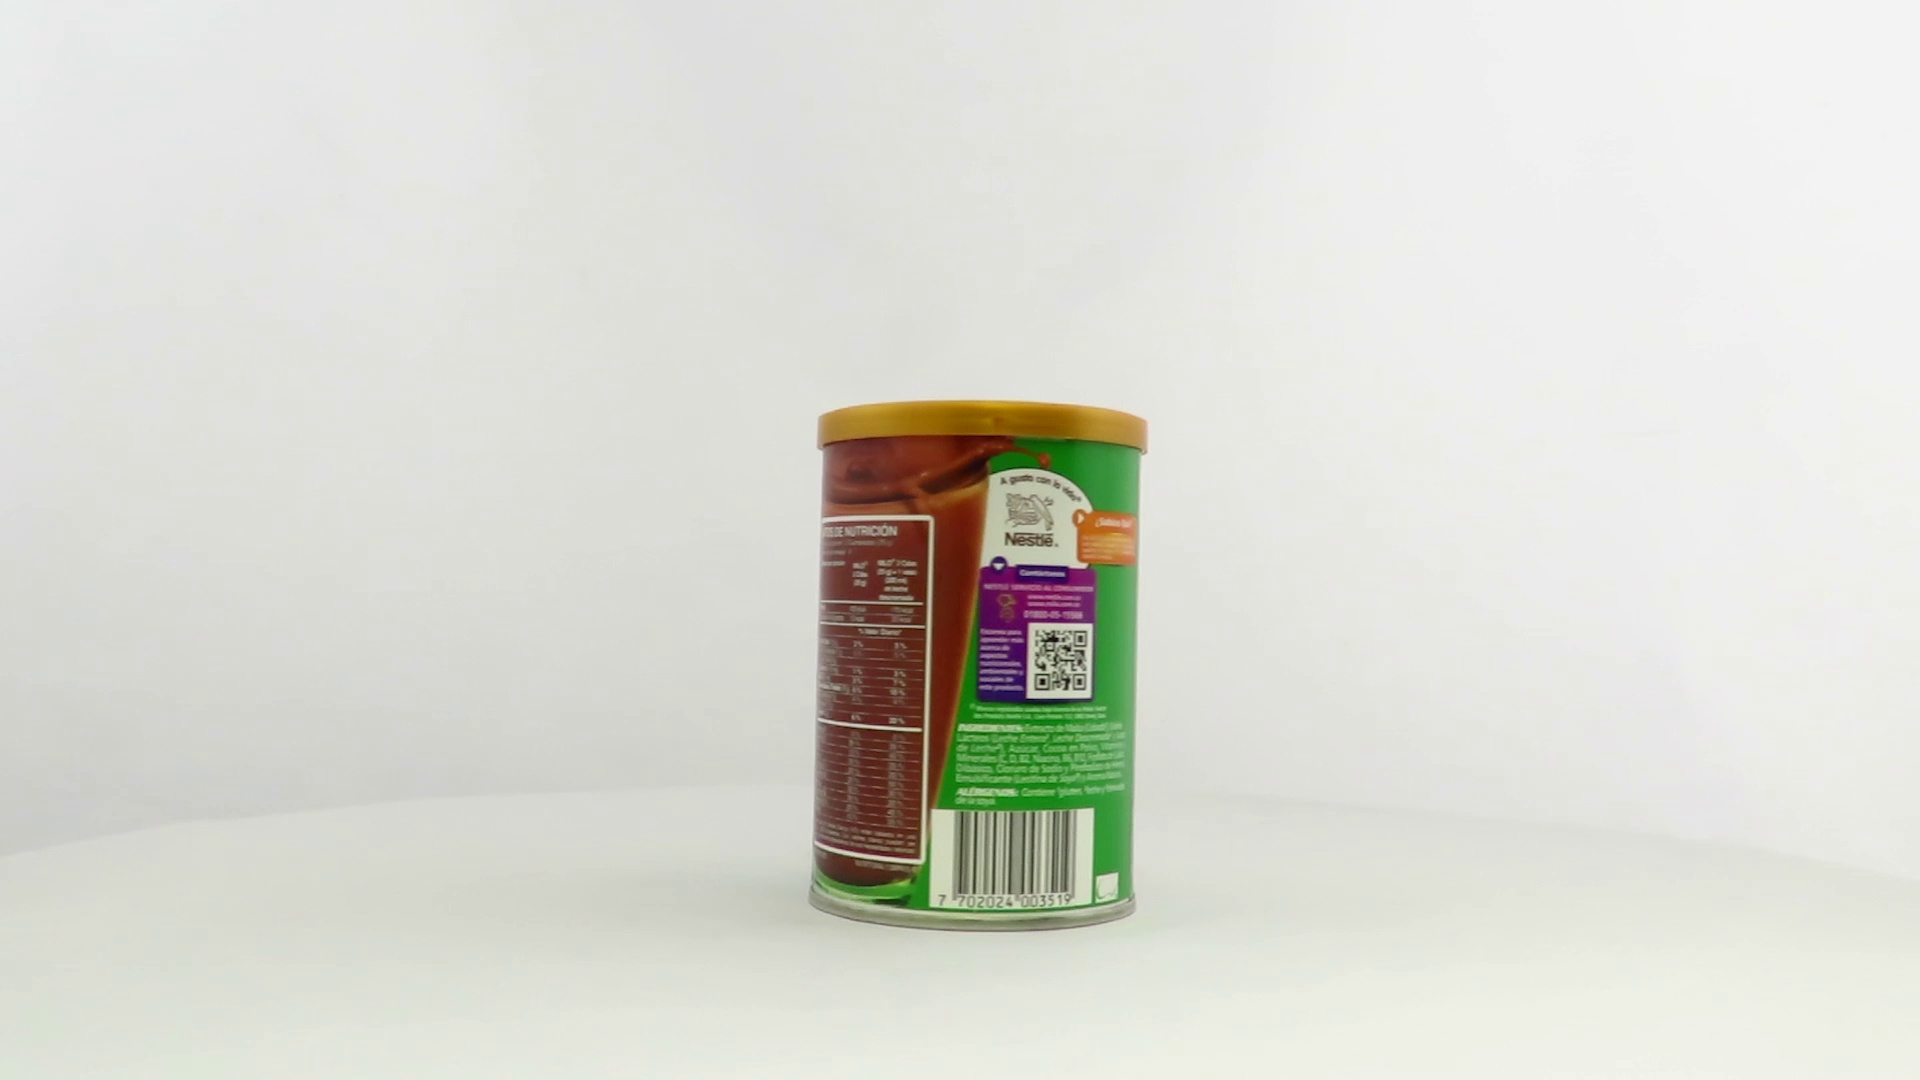COL0170203LAT20000: (803, 396, 1154, 939)
